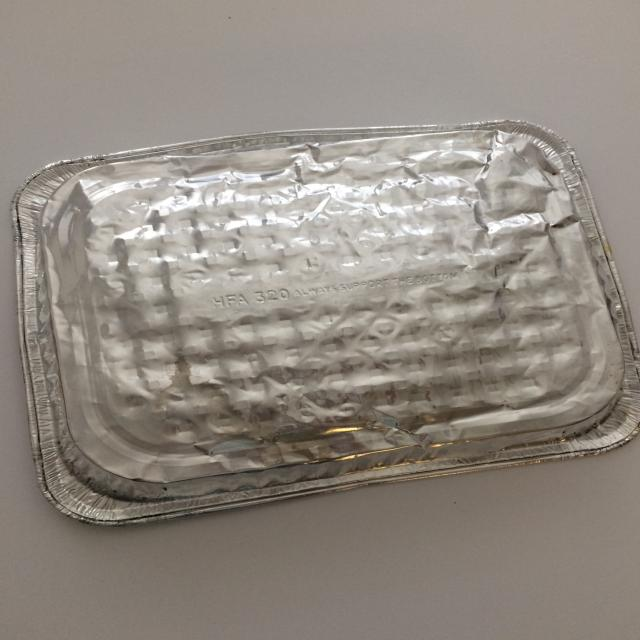metal: (11, 118, 640, 525)
